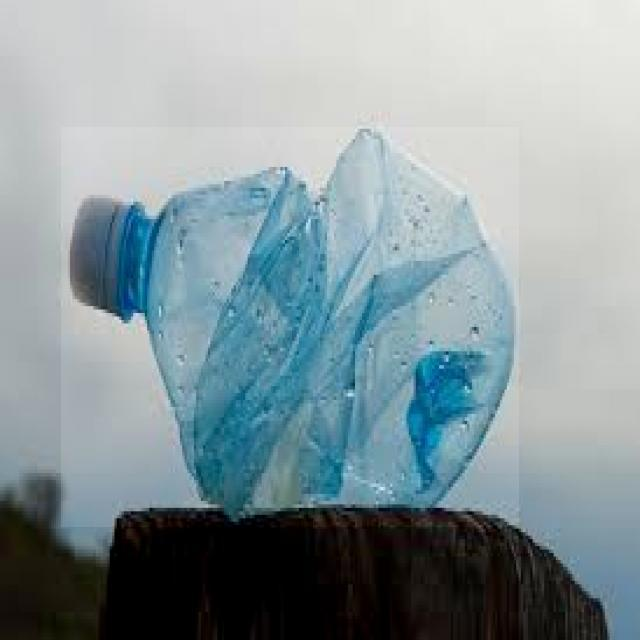BIODEGRADABLE: (61, 127, 519, 527)
